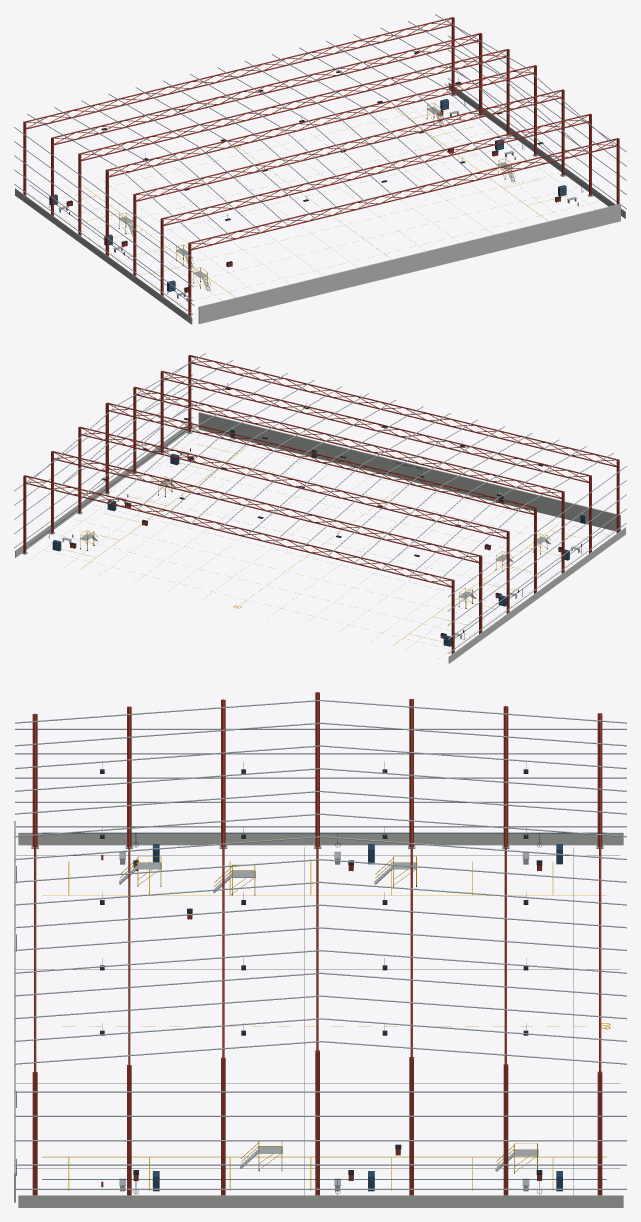
The model's file is sdsc_hangar9_interior.glb.
3 views of the same model, one above another, from view 1: azimuth 30°, elevation 25°; view 2: azimuth 150°, elevation 25°; view 3: azimuth 270°, elevation 25° (orthographic). The views are drawn at different scales.
Visible parts, largest first — view 1: H9_Interior_H9_RedSteel, H9_Interior_H9_WallPanel, H9_Interior_H9_Galvanized, H9_Interior_H9_ToolCabinet, H9_Floor_H9_SafetyYellow; view 2: H9_Interior_H9_RedSteel, H9_Interior_H9_WallPanel, H9_Interior_H9_Galvanized, H9_Interior_H9_ToolCabinet, H9_Floor_H9_SafetyYellow; view 3: H9_Interior_H9_Galvanized, H9_Interior_H9_WallPanel, H9_Interior_H9_RedSteel, H9_Floor_H9_Joint, H9_Interior_H9_ToolCabinet, H9_Floor_H9_SafetyYellow, H9_Interior_H9_SafetyYellow, H9_Interior_H9_Rubber.
Boxes of the visible parts, x1,y1,x2,y2 form: H9_Interior_H9_RedSteel: (23,17,619,316); H9_Interior_H9_WallPanel: (15,82,625,324); H9_Interior_H9_Galvanized: (14,14,626,320); H9_Interior_H9_ToolCabinet: (30,83,609,305); H9_Floor_H9_SafetyYellow: (56,108,567,308); H9_Interior_H9_RedSteel: (23,354,619,653); H9_Interior_H9_WallPanel: (15,412,625,663); H9_Interior_H9_Galvanized: (14,353,626,653); H9_Interior_H9_ToolCabinet: (30,425,608,646); H9_Floor_H9_SafetyYellow: (62,444,588,645); H9_Interior_H9_Galvanized: (15,700,626,1191); H9_Interior_H9_WallPanel: (14,821,623,1207); H9_Interior_H9_RedSteel: (32,692,602,1195); H9_Floor_H9_Joint: (16,847,619,1194); H9_Interior_H9_ToolCabinet: (16,832,606,1193); H9_Floor_H9_SafetyYellow: (42,861,610,1190); H9_Interior_H9_SafetyYellow: (120,856,537,1172); H9_Interior_H9_Rubber: (100,769,542,1194).
Bounding box in the file's own units: 128 × 25.6 × 91.16.
